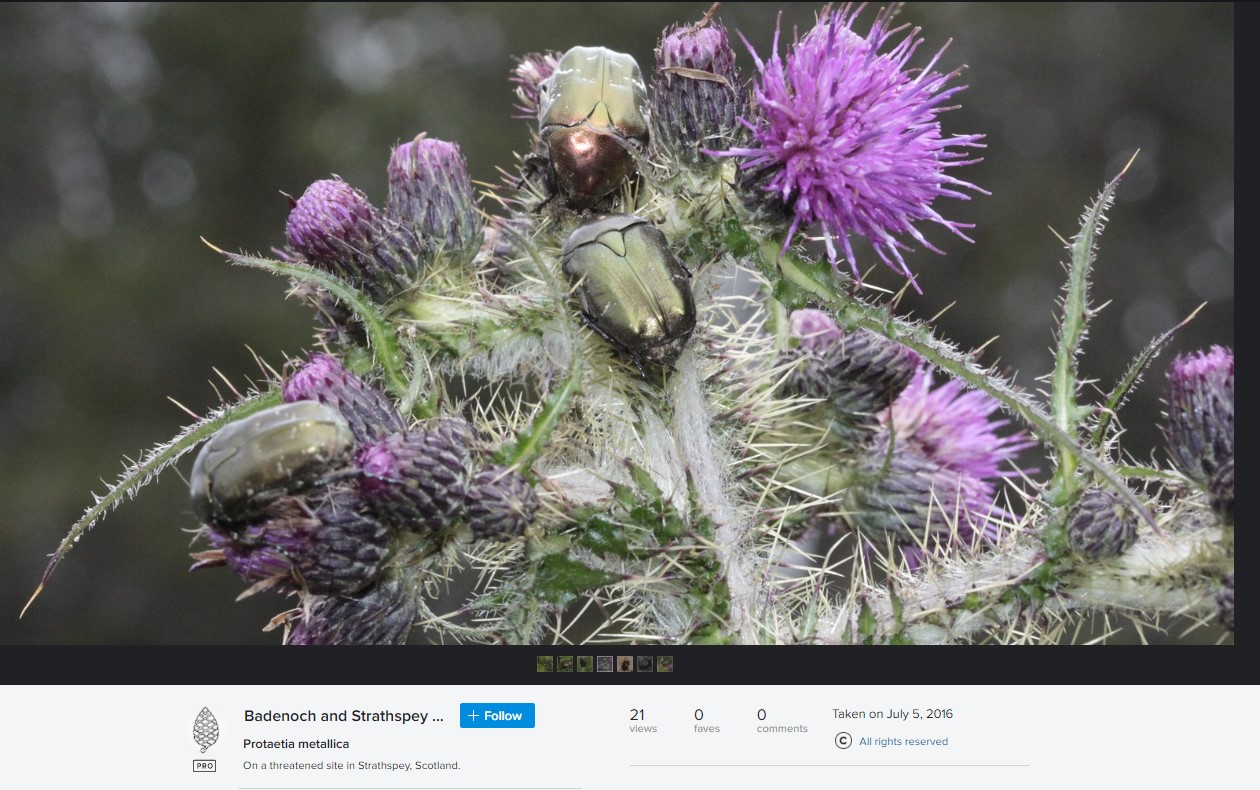Protaetia_metallica: (174, 381, 364, 536), (545, 210, 705, 375), (534, 41, 665, 214)
